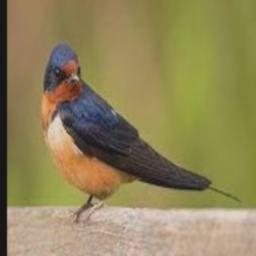Swallow: (40, 44, 242, 225)
